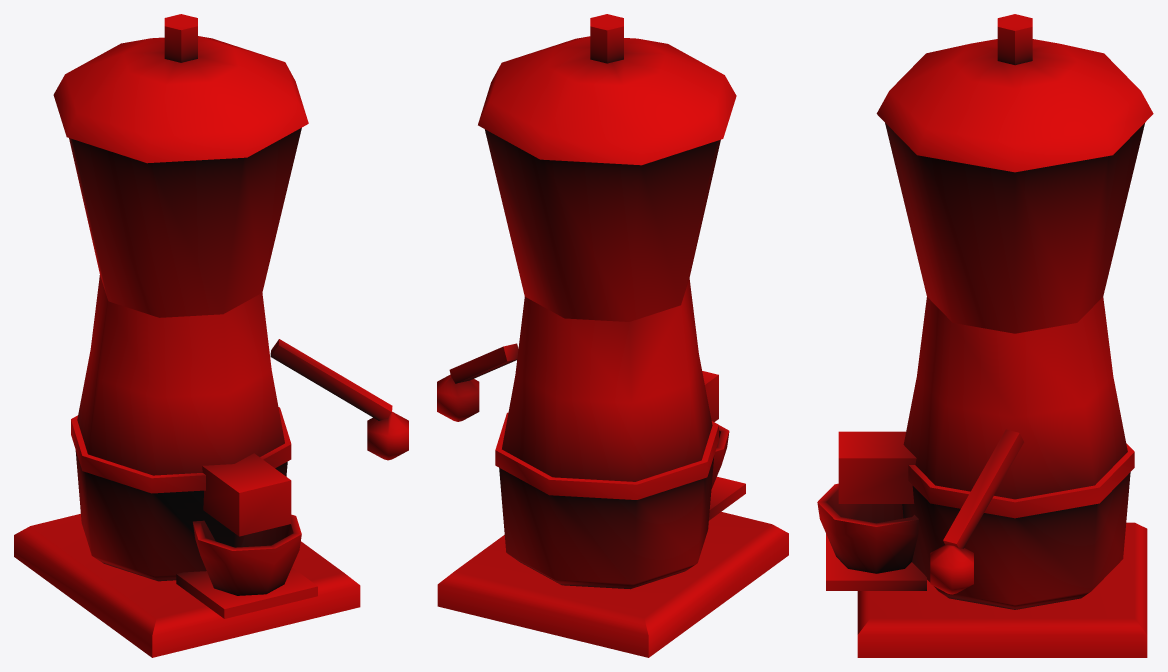
File: CI_Cafe_CoffeeGrinder.glb
3 views of the same model, side by side, from view 1: azimuth 30°, elevation 25°; view 2: azimuth 150°, elevation 25°; view 3: azimuth 270°, elevation 25° (orthographic). The views are drawn at different scales.
Visible parts, largest first — view 1: CI_Cafe_CoffeeGrinder; view 2: CI_Cafe_CoffeeGrinder; view 3: CI_Cafe_CoffeeGrinder.
Boxes of the visible parts, <box> form: CI_Cafe_CoffeeGrinder: <box>14,14,408,657</box>; CI_Cafe_CoffeeGrinder: <box>437,14,788,657</box>; CI_Cafe_CoffeeGrinder: <box>817,14,1153,657</box>.
Size of the model in its own units: 0.3 by 0.51 by 0.267.
